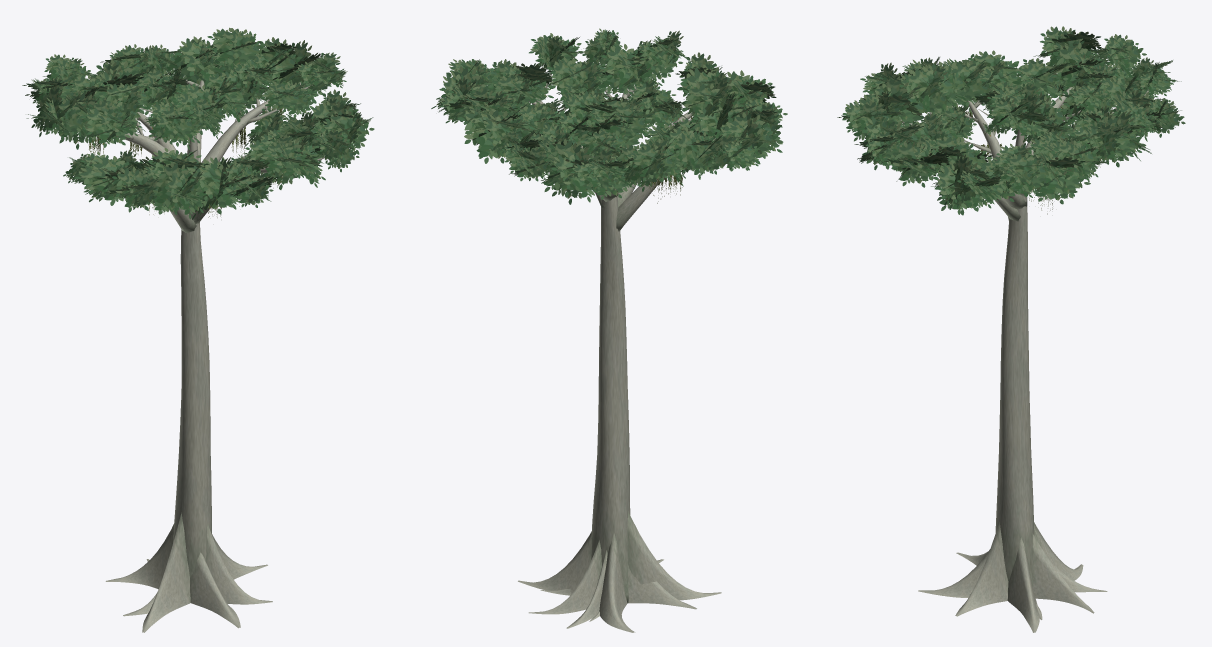
The model's file is big-tree-1.glb.
The picture shows the model from 3 angles, left to right: view 1: azimuth 30°, elevation 25°; view 2: azimuth 150°, elevation 25°; view 3: azimuth 270°, elevation 25°; orthographic projection.
Visible parts, largest first — view 1: big-tree-1; view 2: big-tree-1; view 3: big-tree-1.
Part boxes in pixels (left/top/right/bottom): big-tree-1: left=22, top=27, right=374, bottom=632; big-tree-1: left=431, top=28, right=787, bottom=632; big-tree-1: left=837, top=26, right=1185, bottom=632.
Bounding box in the file's own units: 38.75 × 60 × 38.8.
2 materials, 2 textured.
